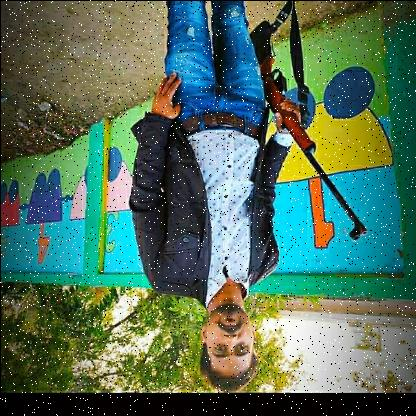rifle: (246, 17, 368, 242)
